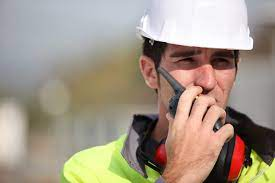Helmet: (135, 2, 263, 60)
